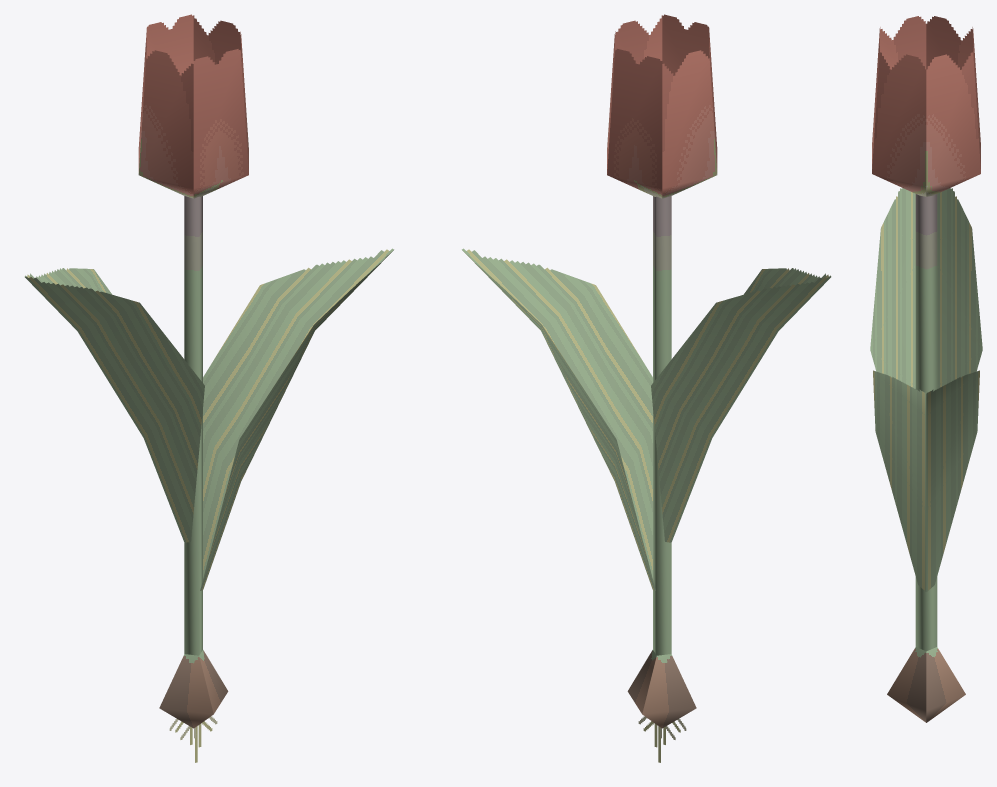
Rendered from 04c4_Red_Tulip.glb.
3 renders of one model, left to right at view 1: azimuth 30°, elevation 25°; view 2: azimuth 150°, elevation 25°; view 3: azimuth 270°, elevation 25°, orthographic.
Parts seen in each view (by area): view 1: part_0; view 2: part_0; view 3: part_0.
Boxes of the visible parts, left/top/right/bottom form: part_0: left=24, top=14, right=393, bottom=762; part_0: left=462, top=14, right=831, bottom=762; part_0: left=870, top=16, right=982, bottom=722.
Size of the model in its own units: 0.2177 by 0.38 by 0.0535.
1 material, 1 textured.
